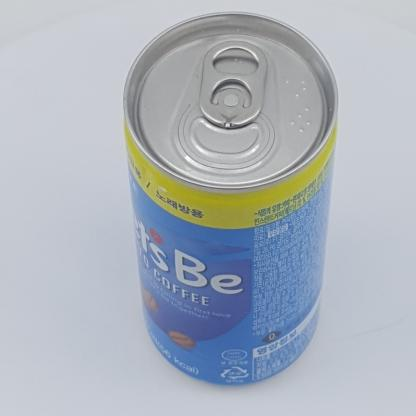------190ml: (122, 11, 339, 386)
